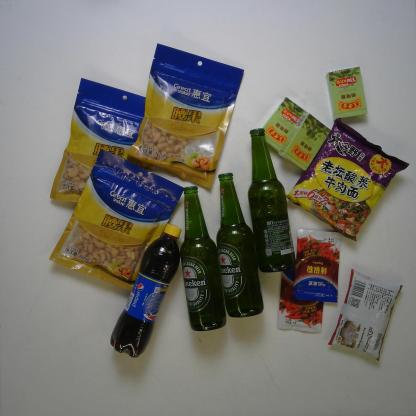Alcohol: (247, 128, 297, 274), (216, 172, 264, 318), (180, 185, 227, 332)
Candy: (278, 111, 331, 171), (262, 96, 306, 152), (326, 66, 368, 121)
Dried Fruit: (48, 148, 185, 291), (127, 42, 244, 190), (50, 77, 146, 203)
Drink: (110, 223, 181, 358)
Instant Noodles: (285, 117, 410, 242)
Seasoner: (326, 268, 404, 362), (293, 228, 342, 303), (277, 259, 324, 333)
